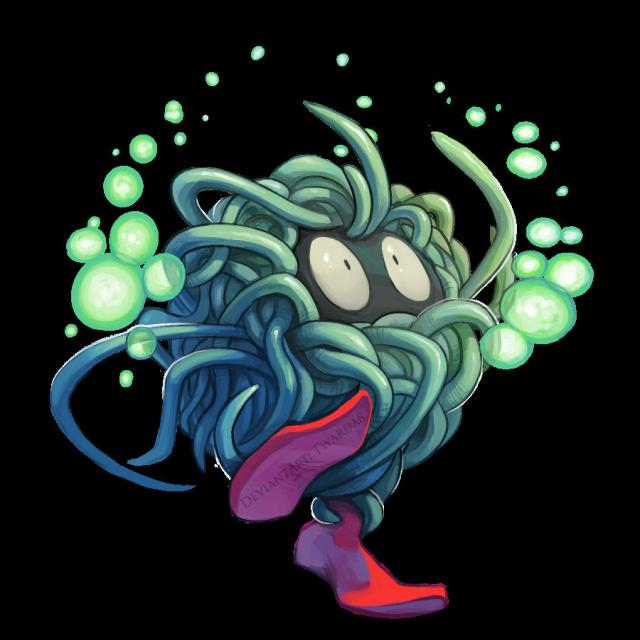Tangela: (149, 152, 514, 576)
